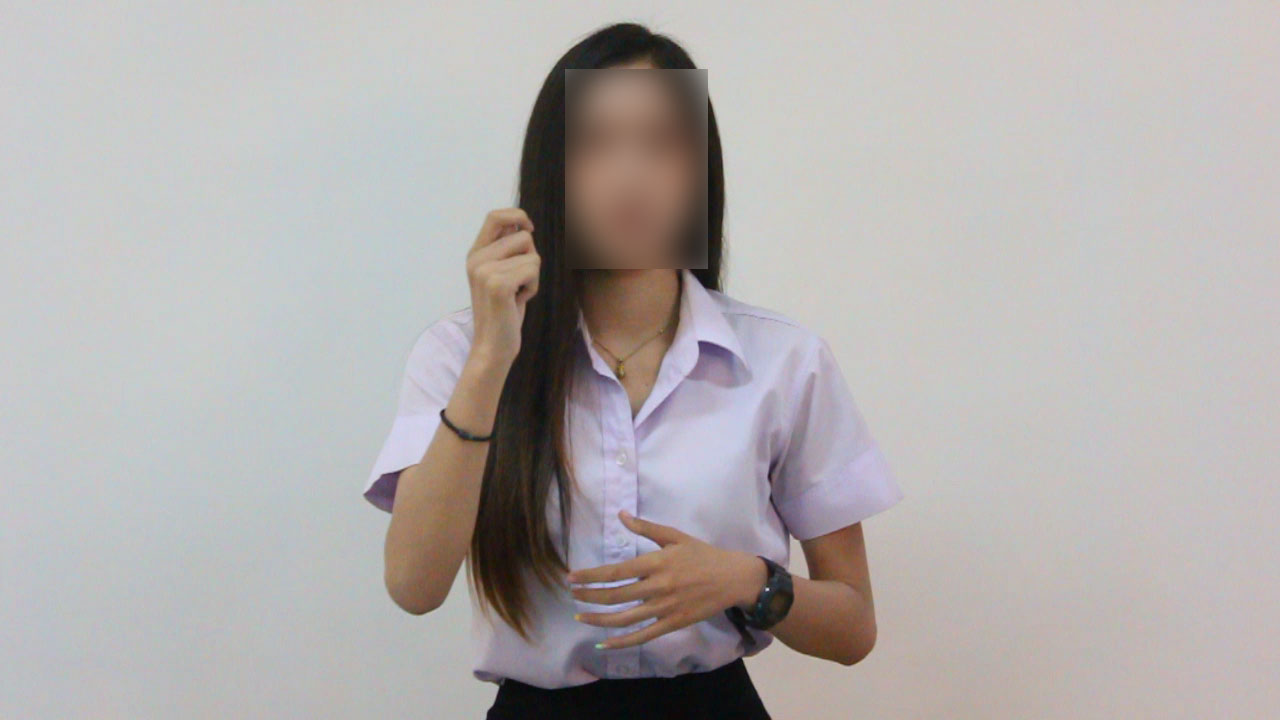or: (460, 205, 548, 363)
